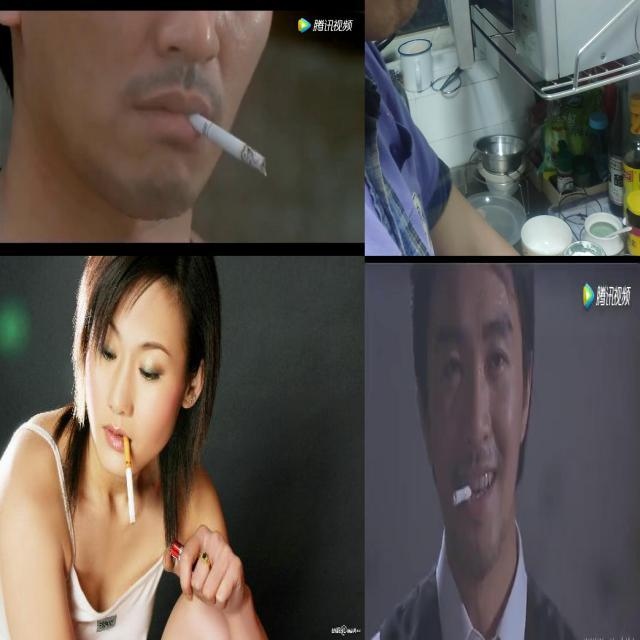cigarette: (188, 111, 271, 178), (116, 429, 140, 526), (448, 469, 474, 516)
